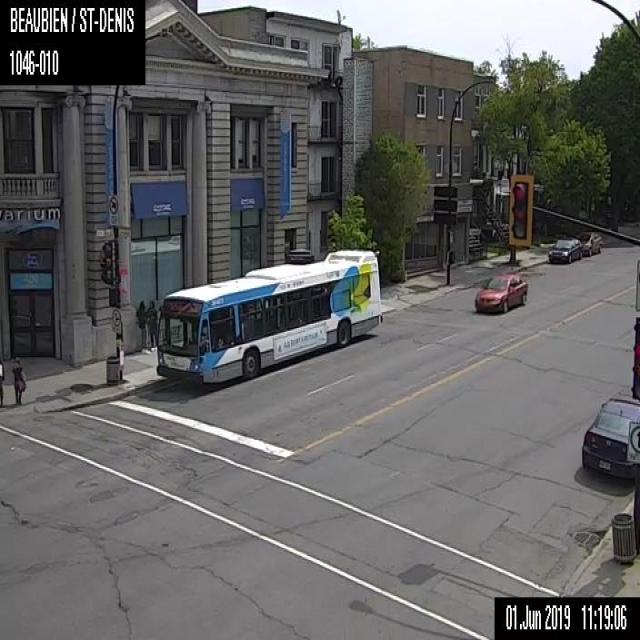bus: (155, 248, 382, 384)
pedestrian: (135, 299, 150, 353), (11, 358, 25, 403), (146, 299, 158, 349)
vehicle: (581, 393, 639, 479), (474, 271, 527, 313), (547, 235, 582, 262), (574, 231, 603, 256)
